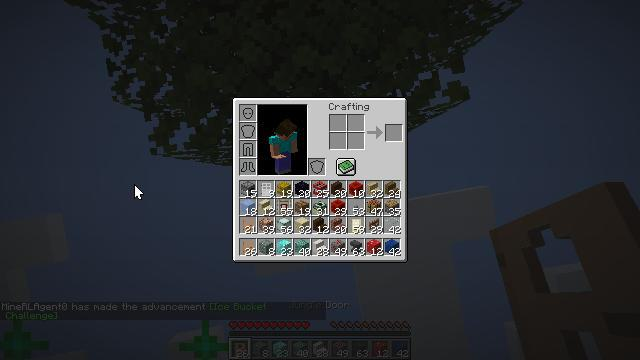cursor: (134, 184, 144, 200)
